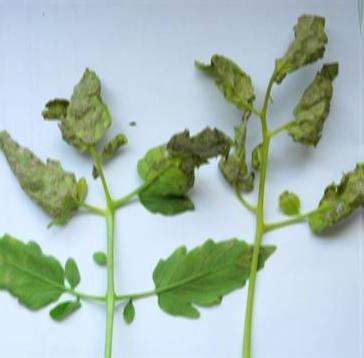Tomato mold leaf: (152, 235, 281, 324), (139, 121, 236, 216), (2, 127, 93, 227), (0, 228, 74, 305), (63, 56, 123, 150)
